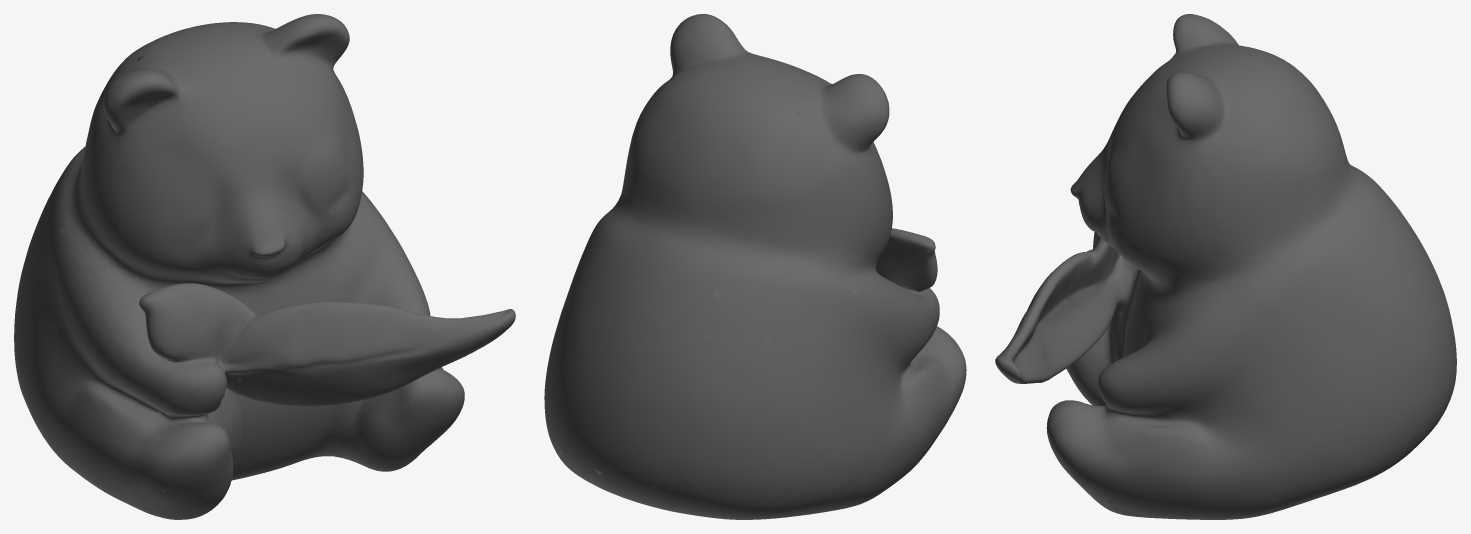
The picture shows the model from 3 angles, left to right: view 1: azimuth 30°, elevation 25°; view 2: azimuth 150°, elevation 25°; view 3: azimuth 270°, elevation 25°; orthographic projection. The views are drawn at different scales.
Visible parts, largest first — view 1: mesh_uvwarp; view 2: mesh_uvwarp; view 3: mesh_uvwarp.
Boxes of the visible parts, x1,y1,x2,y2 form: mesh_uvwarp: (14, 14, 515, 519); mesh_uvwarp: (544, 14, 966, 519); mesh_uvwarp: (995, 14, 1456, 519).
Size of the model in its own units: 1.61 by 2 by 1.97.
1 material, 1 textured.
